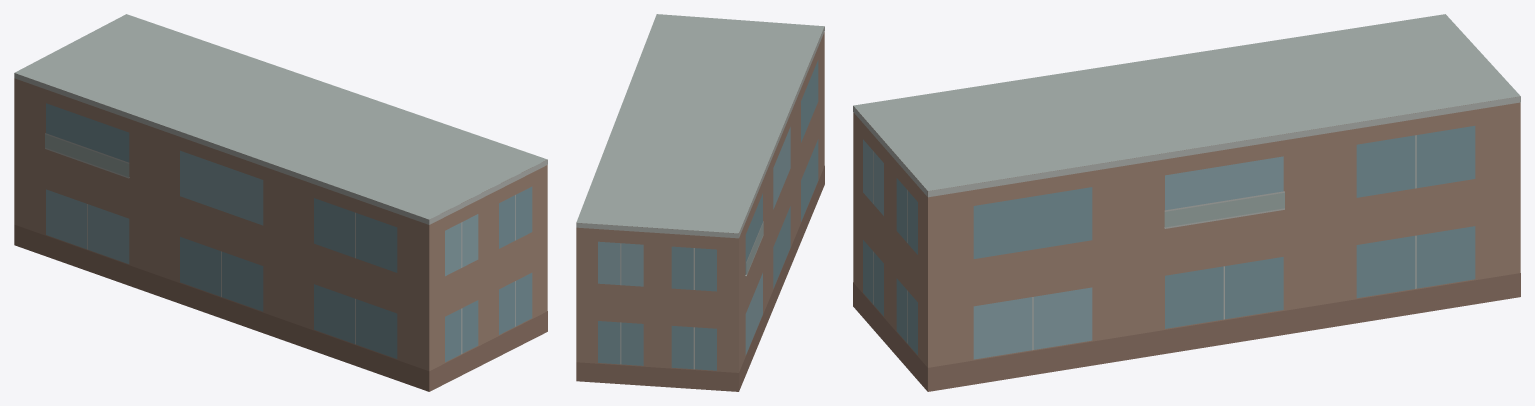
File: survey-upis-32856072.glb
The picture shows the model from 3 angles, left to right: view 1: azimuth 30°, elevation 25°; view 2: azimuth 150°, elevation 25°; view 3: azimuth 270°, elevation 25°; orthographic projection. The views are drawn at different scales.
Parts seen in each view (by area): view 1: survey-upis-32856072.tmp; view 2: survey-upis-32856072.tmp; view 3: survey-upis-32856072.tmp.
Boxes of the visible parts, bbox=[...] form: survey-upis-32856072.tmp: bbox=[14, 14, 547, 391]; survey-upis-32856072.tmp: bbox=[576, 14, 824, 391]; survey-upis-32856072.tmp: bbox=[853, 14, 1520, 391].
Bounding box in the file's own units: 14.86 × 7.85 × 23.67.
